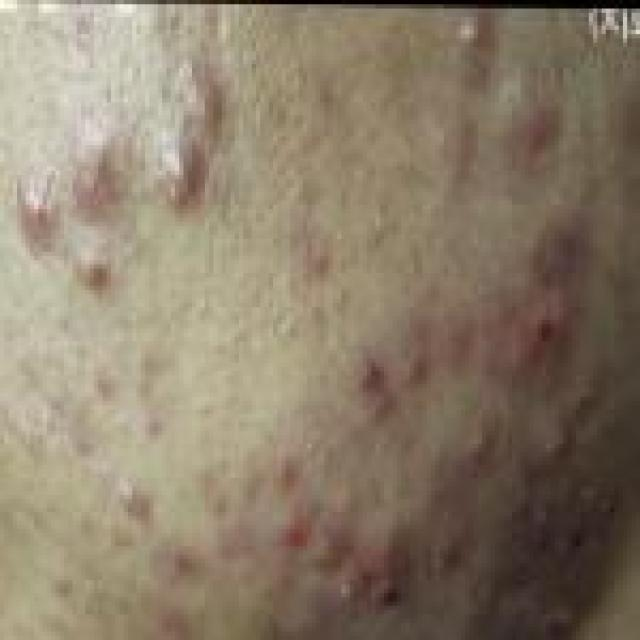cyst: (495, 204, 589, 382), (349, 503, 412, 603), (428, 2, 514, 63), (499, 92, 554, 185), (66, 122, 124, 207), (417, 111, 470, 202), (272, 458, 320, 551), (15, 176, 67, 251), (352, 346, 396, 422), (410, 308, 461, 370), (157, 132, 200, 204), (167, 81, 245, 111), (454, 427, 501, 470), (538, 422, 581, 460), (78, 247, 111, 291)
